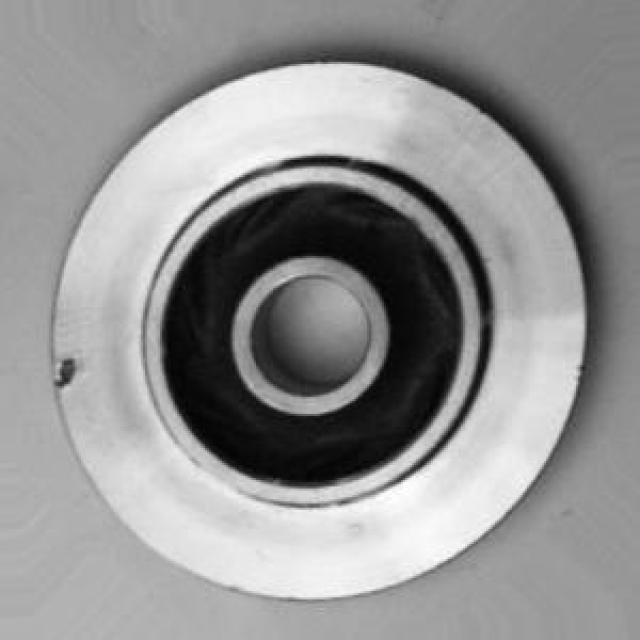Defect: (51, 353, 90, 396)
